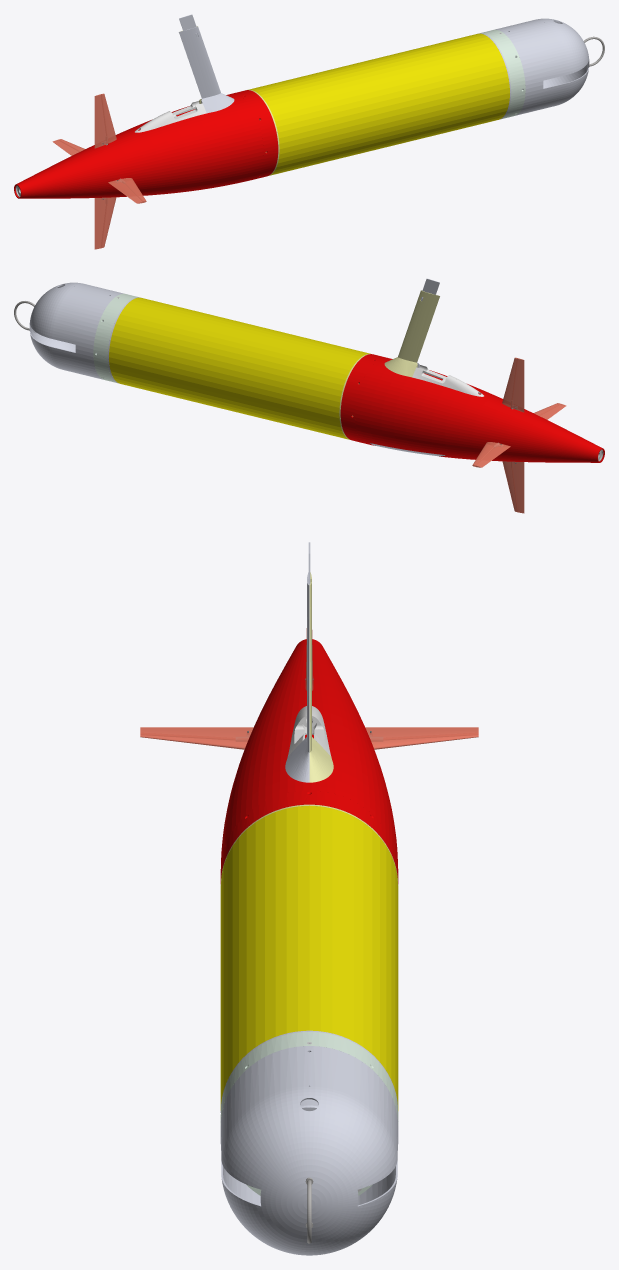
3 renders of one model, top to bottom at view 1: azimuth 30°, elevation 25°; view 2: azimuth 150°, elevation 25°; view 3: azimuth 270°, elevation 25°, orthographic. The views are drawn at different scales.
Parts seen in each view (by area): view 1: Shape_IndexedFaceSet_044, Shape_IndexedFaceSet_029, Shape_IndexedFaceSet_049, Shape_IndexedFaceSet_030, Shape_IndexedFaceSet_028, Shape_IndexedFaceSet_048, Shape_IndexedFaceSet_021, Shape_IndexedFaceSet_027, Shape_IndexedFaceSet_043, Shape_IndexedFaceSet_009; view 2: Shape_IndexedFaceSet_044, Shape_IndexedFaceSet_029, Shape_IndexedFaceSet_049, Shape_IndexedFaceSet_031, Shape_IndexedFaceSet_028, Shape_IndexedFaceSet_048, Shape_IndexedFaceSet_021, Shape_IndexedFaceSet_027, Shape_IndexedFaceSet_043, Shape_IndexedFaceSet_015; view 3: Shape_IndexedFaceSet_044, Shape_IndexedFaceSet_049, Shape_IndexedFaceSet_029, Shape_IndexedFaceSet_048, Shape_IndexedFaceSet_028, Shape_IndexedFaceSet_009, Shape_IndexedFaceSet_015, Shape_IndexedFaceSet_030, Shape_IndexedFaceSet_031, Shape_IndexedFaceSet_043.
Part boxes in pixels (<box>): Shape_IndexedFaceSet_044: <box>249,33,509,175</box>; Shape_IndexedFaceSet_029: <box>14,93,263,198</box>; Shape_IndexedFaceSet_049: <box>495,18,589,115</box>; Shape_IndexedFaceSet_030: <box>179,26,234,113</box>; Shape_IndexedFaceSet_028: <box>233,90,278,179</box>; Shape_IndexedFaceSet_048: <box>480,29,525,119</box>; Shape_IndexedFaceSet_021: <box>94,93,116,148</box>; Shape_IndexedFaceSet_027: <box>94,197,116,249</box>; Shape_IndexedFaceSet_043: <box>135,101,206,132</box>; Shape_IndexedFaceSet_009: <box>108,178,146,203</box>; Shape_IndexedFaceSet_044: <box>109,297,370,439</box>; Shape_IndexedFaceSet_029: <box>355,357,604,462</box>; Shape_IndexedFaceSet_049: <box>29,282,123,379</box>; Shape_IndexedFaceSet_031: <box>384,290,439,377</box>; Shape_IndexedFaceSet_028: <box>340,354,385,443</box>; Shape_IndexedFaceSet_048: <box>93,293,138,383</box>; Shape_IndexedFaceSet_021: <box>502,357,524,412</box>; Shape_IndexedFaceSet_027: <box>502,461,524,513</box>; Shape_IndexedFaceSet_043: <box>412,365,483,396</box>; Shape_IndexedFaceSet_015: <box>472,442,510,467</box>; Shape_IndexedFaceSet_044: <box>220,805,398,1110</box>; Shape_IndexedFaceSet_049: <box>220,1046,398,1255</box>; Shape_IndexedFaceSet_029: <box>221,639,397,863</box>; Shape_IndexedFaceSet_048: <box>220,1032,398,1195</box>; Shape_IndexedFaceSet_028: <box>220,790,398,883</box>; Shape_IndexedFaceSet_009: <box>140,727,253,749</box>; Shape_IndexedFaceSet_015: <box>365,727,478,749</box>; Shape_IndexedFaceSet_030: <box>285,572,309,782</box>; Shape_IndexedFaceSet_031: <box>309,572,333,782</box>; Shape_IndexedFaceSet_043: <box>288,706,331,756</box>.
Bounding box in the file's own units: 2.33 × 0.5819 × 0.8009.
